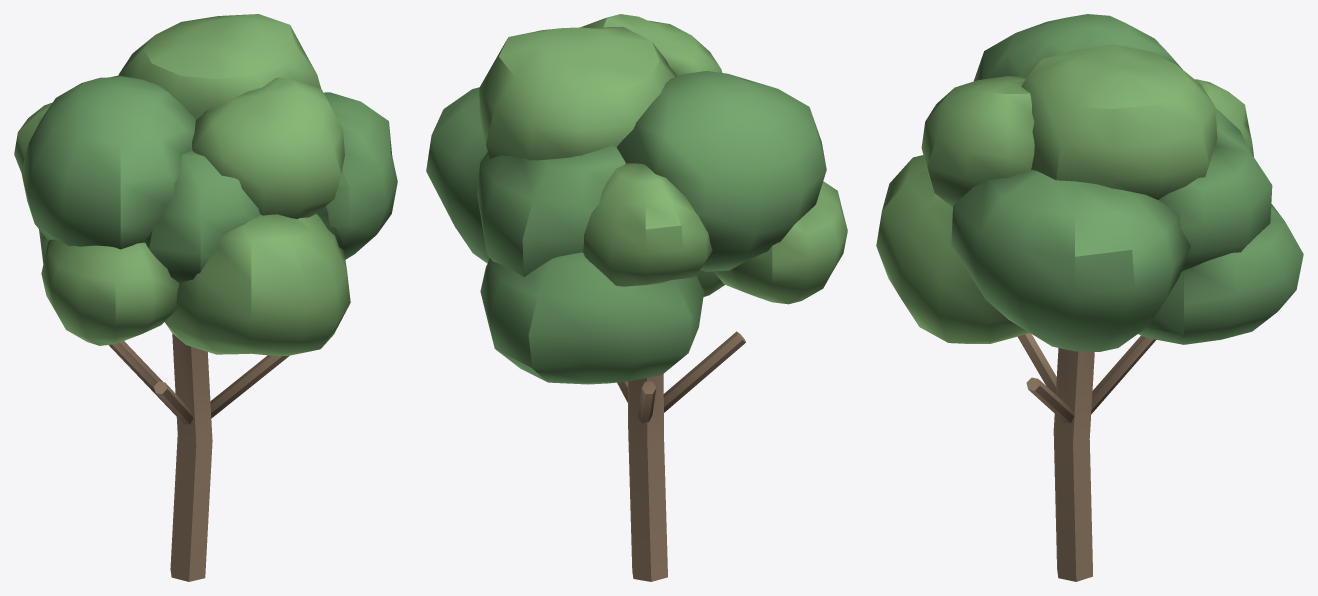
File: tree2.glb
The picture shows the model from 3 angles, left to right: view 1: azimuth 30°, elevation 25°; view 2: azimuth 150°, elevation 25°; view 3: azimuth 270°, elevation 25°; orthographic projection. The views are drawn at different scales.
Visible parts, largest first — view 1: boat_leafA, boat_leafC, boat_bark2; view 2: boat_leafC, boat_leafA, boat_bark2; view 3: boat_leafC, boat_leafA, boat_bark2.
Boxes of the visible parts, x1,y1,x2,y2 form: boat_leafA: (14,14,350,356); boat_leafC: (21,75,397,282); boat_bark2: (109,333,289,581); boat_leafC: (426,71,826,384); boat_leafA: (479,14,847,304); boat_bark2: (617,331,745,581); boat_leafC: (951,14,1303,351); boat_leafA: (876,44,1253,343); boat_bark2: (1018,333,1156,581).
Size of the model in its own units: 6.48 by 8.83 by 6.36.
